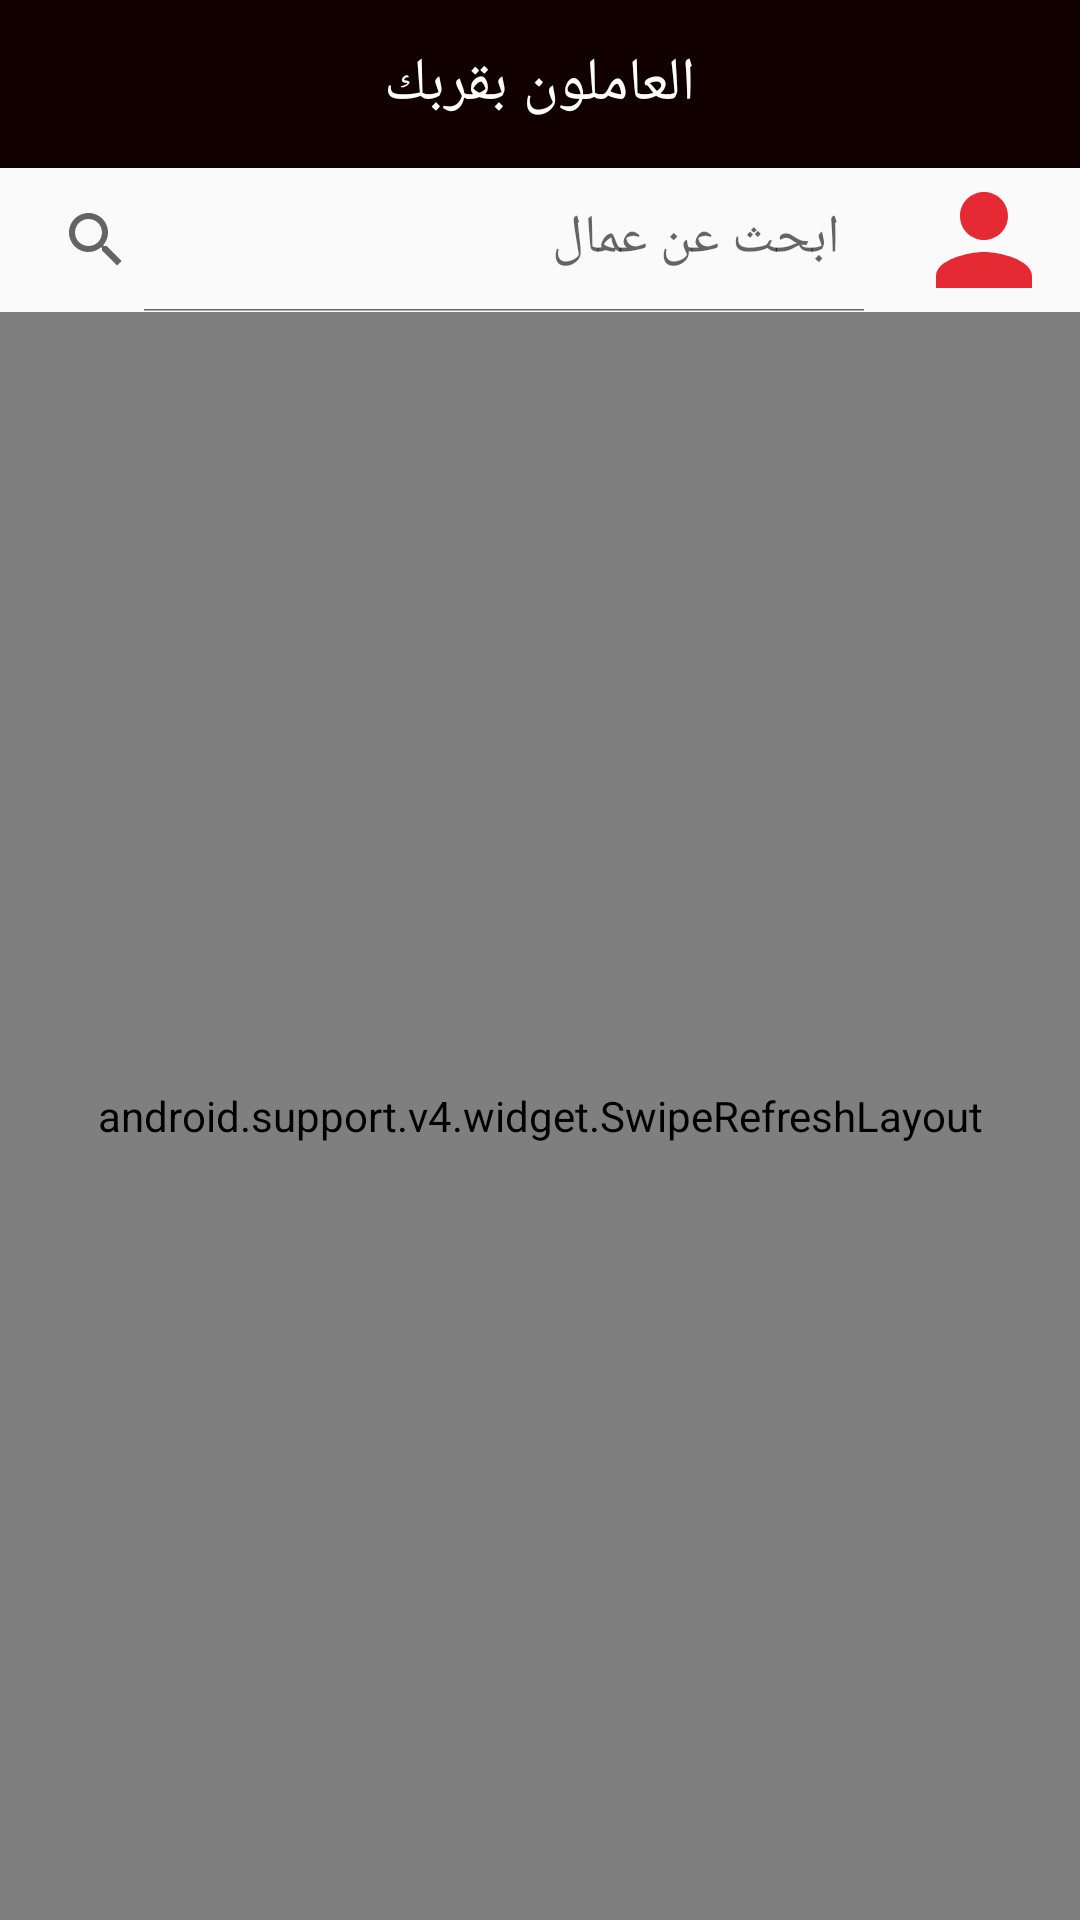

Locate icon controls on the screen. Image size 1080px×1920px, boxes as (x1, y1, x2, y2).
person: (936, 192, 1032, 288)
